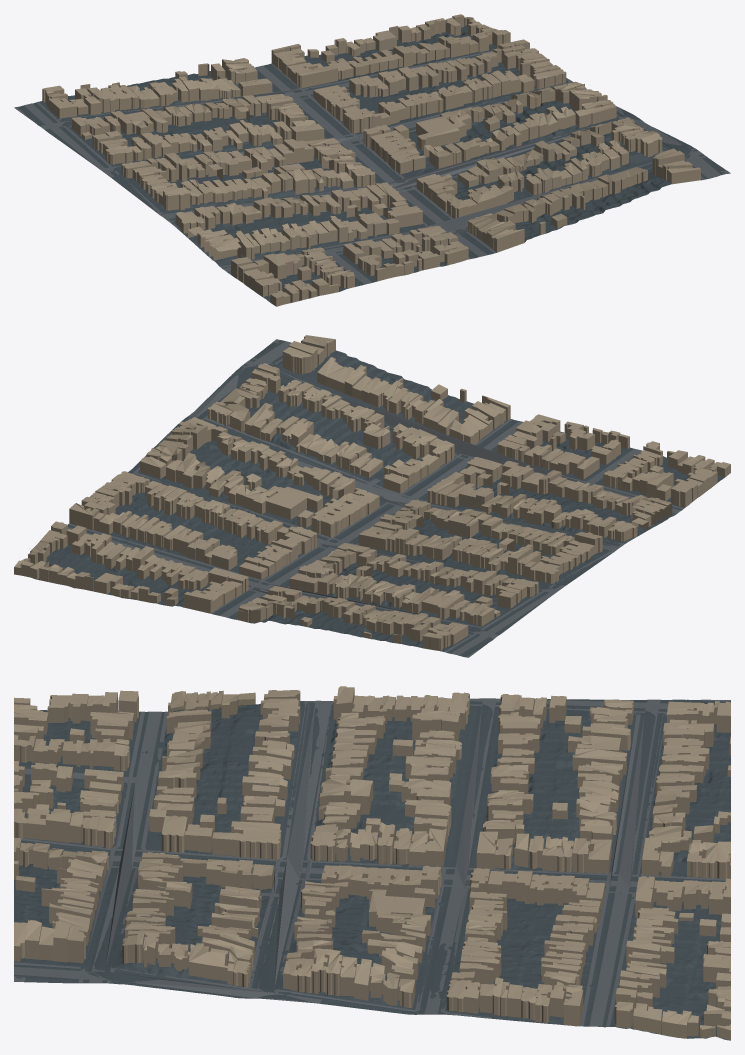
The model's file is epsg26910-1433-10880.lod0.glb.
3 views of the same model, one above another, from view 1: azimuth 30°, elevation 25°; view 2: azimuth 150°, elevation 25°; view 3: azimuth 270°, elevation 25° (orthographic). The views are drawn at different scales.
Parts seen in each view (by area): view 1: epsg26910-1433-10880-lod0; view 2: epsg26910-1433-10880-lod0; view 3: epsg26910-1433-10880-lod0.
Boxes of the visible parts, box(x1,y1,x2,y2) form: epsg26910-1433-10880-lod0: box(14, 14, 730, 306); epsg26910-1433-10880-lod0: box(14, 335, 730, 657); epsg26910-1433-10880-lod0: box(14, 686, 730, 1040).
Bounding box in the file's own units: 384 × 48.59 × 384.
